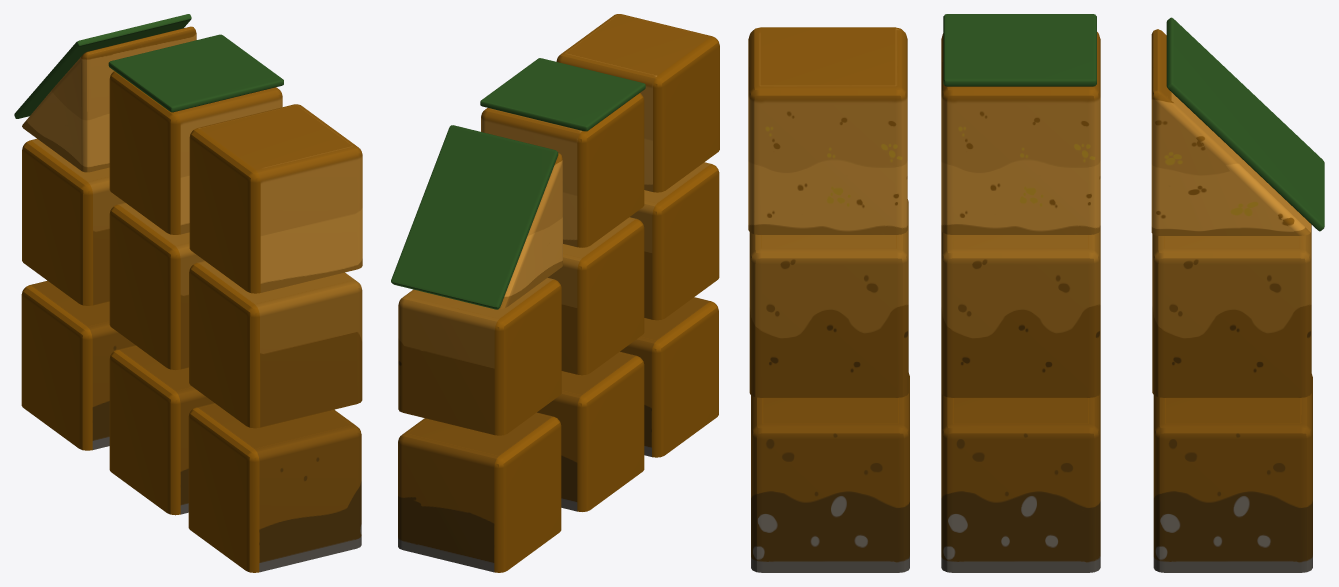
File: zimen_end01.fbx
3 renders of one model, left to right at view 1: azimuth 30°, elevation 25°; view 2: azimuth 150°, elevation 25°; view 3: azimuth 270°, elevation 25°, orthographic. The views are drawn at different scales.
Parts seen in each view (by area): view 1: pCube15, pCube19, pCube17, pCube21, pCube1, pCube20, pCube18, pCube16, pCube3, pCube2, pCube14; view 2: pCube21, pCube20, pCube14, pCube15, pCube1, pCube18, pCube16, pCube19, pCube17, pCube2, pCube3; view 3: pCube15, pCube21, pCube18, pCube19, pCube17, pCube16, pCube20, pCube1, pCube3, pCube14, pCube2.
Boxes of the visible parts, box(x1,y1,x2,y2) form: pCube15: box(189, 104, 362, 293); pCube19: box(188, 403, 361, 572); pCube17: box(189, 261, 362, 428); pCube21: box(21, 280, 135, 450); pCube1: box(109, 71, 282, 234); pCube20: box(22, 139, 124, 305); pCube18: box(109, 345, 213, 515); pCube16: box(109, 202, 204, 369); pCube3: box(22, 26, 196, 172); pCube2: box(108, 34, 283, 112); pCube14: box(14, 14, 191, 118); pCube21: box(398, 412, 561, 572); pCube20: box(398, 278, 561, 435); pCube14: box(391, 125, 558, 309); pCube15: box(556, 14, 719, 192); pCube1: box(481, 93, 644, 247); pCube18: box(537, 351, 644, 511); pCube16: box(548, 217, 644, 375); pCube19: box(620, 297, 718, 457); pCube17: box(630, 162, 719, 320); pCube2: box(480, 58, 645, 131); pCube3: box(499, 153, 562, 308); pCube15: box(748, 27, 907, 234); pCube21: box(1153, 374, 1312, 572); pCube18: box(941, 393, 1100, 572); pCube19: box(751, 373, 909, 572); pCube17: box(749, 199, 908, 397); pCube16: box(941, 230, 1100, 397); pCube20: box(1152, 224, 1311, 397); pCube1: box(941, 32, 1100, 234); pCube3: box(1151, 29, 1310, 235); pCube14: box(1166, 17, 1324, 231); pCube2: box(943, 14, 1096, 86).
Bounding box in the file's own units: 2 × 6.83 × 7.23.
5 materials, 4 textured.
